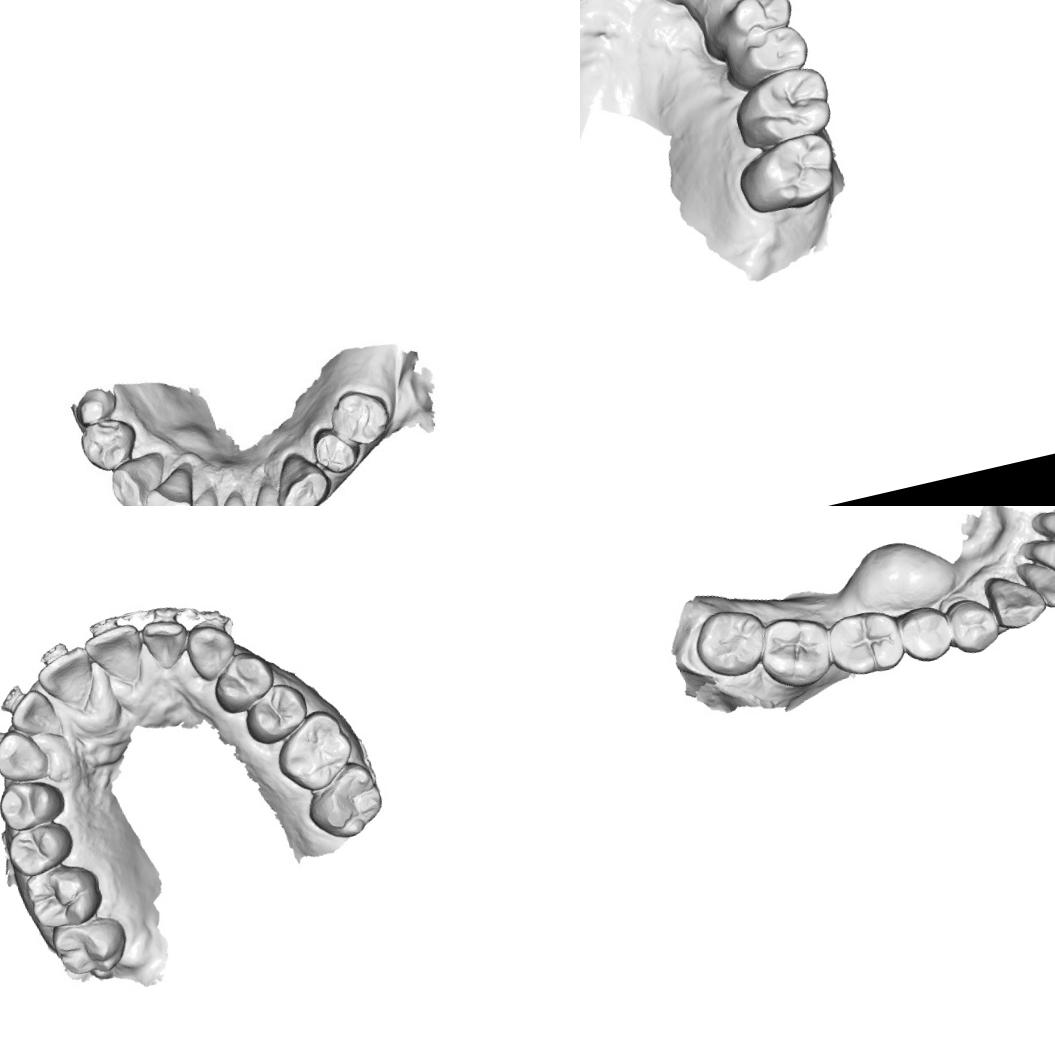canine: (984, 567, 1051, 635), (180, 618, 244, 686), (270, 445, 341, 506), (104, 451, 168, 506), (0, 723, 52, 788)
incisor: (81, 618, 150, 693), (31, 643, 100, 712), (138, 613, 196, 674), (5, 684, 61, 742), (1015, 549, 1055, 617), (140, 460, 199, 506), (1022, 530, 1055, 591), (199, 482, 258, 506), (240, 479, 292, 506), (166, 488, 223, 506)
molar: (730, 126, 846, 219), (728, 60, 839, 150), (268, 704, 361, 798), (752, 606, 843, 697), (299, 756, 389, 846), (686, 600, 776, 686), (822, 602, 909, 684), (22, 858, 107, 935), (46, 910, 133, 984)
premolar: (726, 19, 812, 86), (238, 678, 315, 749), (206, 648, 282, 719), (74, 410, 146, 478), (2, 818, 80, 880), (940, 590, 1008, 660), (891, 600, 958, 668), (0, 772, 69, 834), (330, 386, 392, 448), (310, 423, 364, 484), (719, 0, 798, 40)
